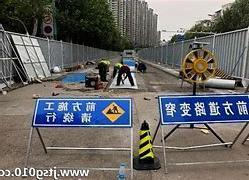sign: (33, 98, 132, 126), (160, 94, 249, 125)
